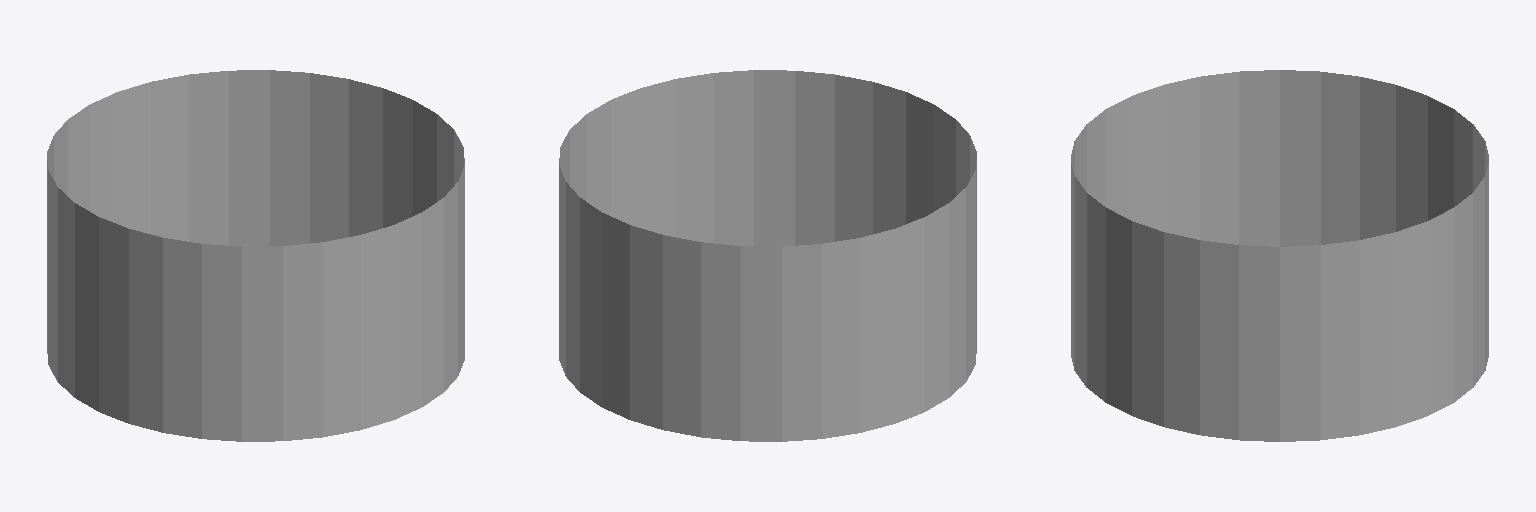
The model's file is moscoww.obj.
3 views of the same model, side by side, from view 1: azimuth 30°, elevation 25°; view 2: azimuth 150°, elevation 25°; view 3: azimuth 270°, elevation 25° (orthographic).
Visible parts, largest first — view 1: Circle; view 2: Circle; view 3: Circle.
Part boxes in pixels (x1,y1,x2,y2): Circle: (47, 70, 464, 441); Circle: (559, 70, 976, 441); Circle: (1071, 70, 1488, 441).
Bounding box in the file's own units: 14 × 7.2 × 14.